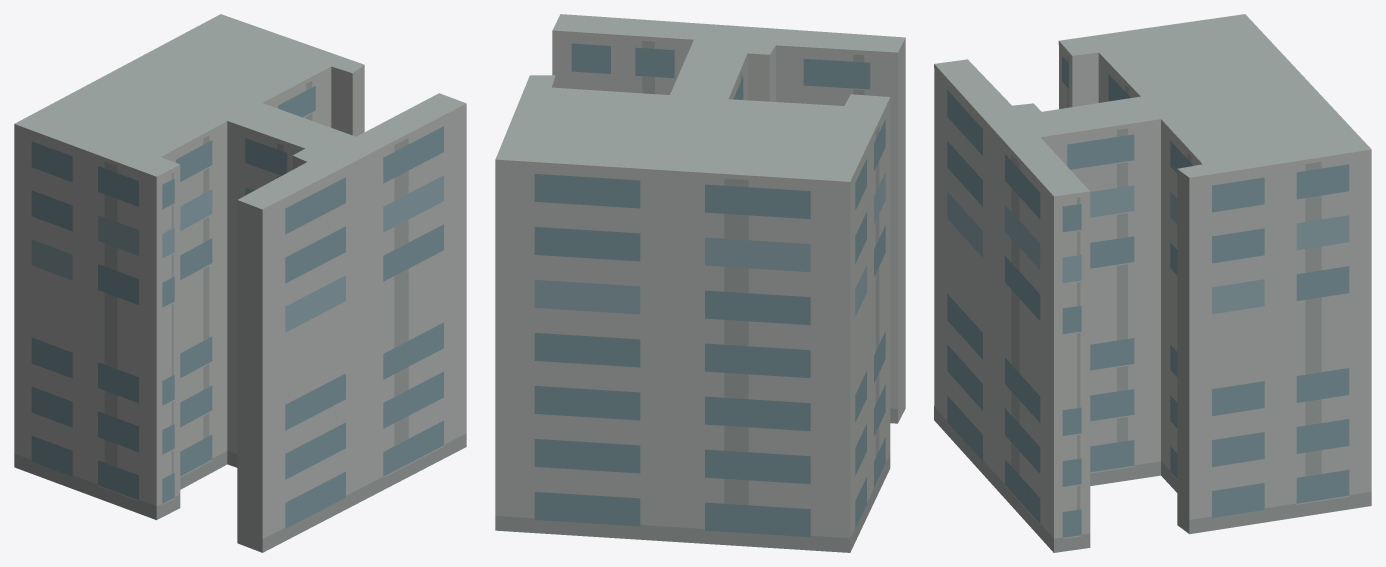
Rendered from survey-upis-32768471.glb.
The picture shows the model from 3 angles, left to right: view 1: azimuth 30°, elevation 25°; view 2: azimuth 150°, elevation 25°; view 3: azimuth 270°, elevation 25°; orthographic projection. The views are drawn at different scales.
Parts seen in each view (by area): view 1: survey-upis-32768471.tmp; view 2: survey-upis-32768471.tmp; view 3: survey-upis-32768471.tmp.
Boxes of the visible parts, left/top/right/bottom form: survey-upis-32768471.tmp: left=14, top=14, right=466, bottom=552; survey-upis-32768471.tmp: left=495, top=14, right=905, bottom=552; survey-upis-32768471.tmp: left=934, top=14, right=1371, bottom=552.
Bounding box in the file's own units: 21.92 × 19.95 × 22.21.
